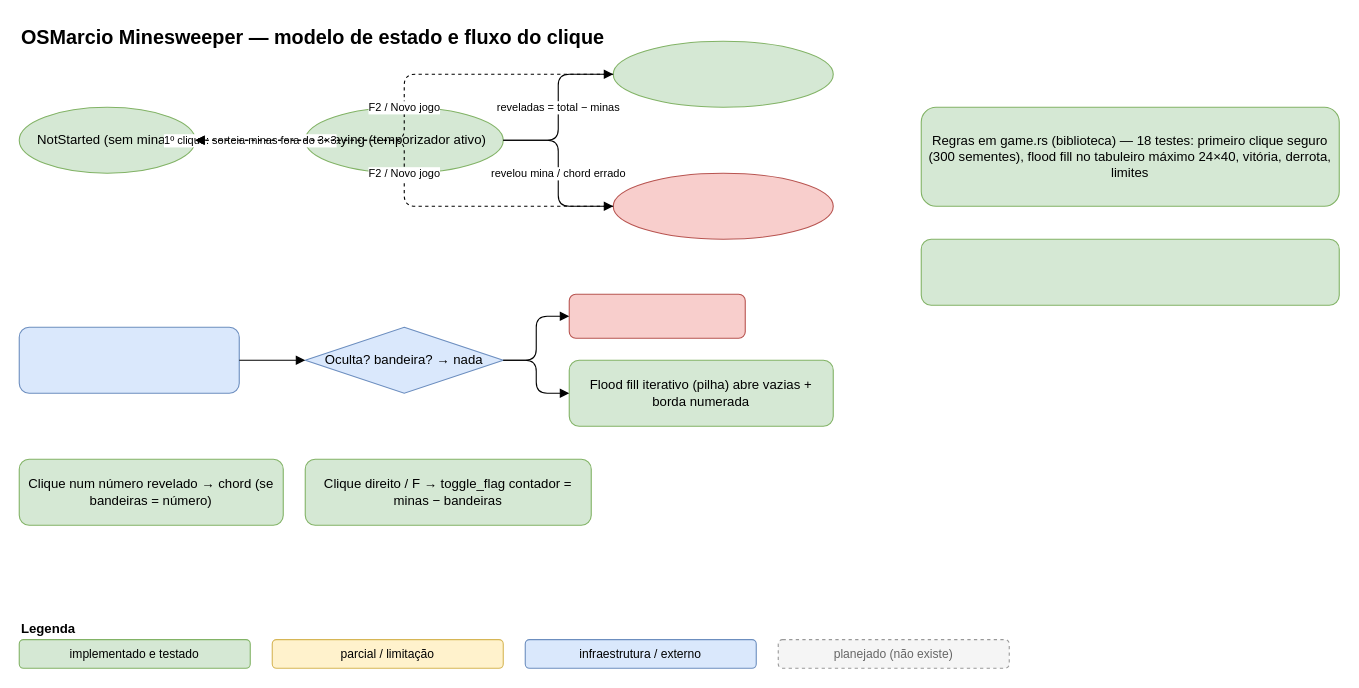
This 1359x688 diagram has some shape labels left out. The shapes that lost their labels are listed below. From the top down, each one's centre as x and y in pixels, then its label:
(x=722, y=73): Won (minas marcadas, recorde)
(x=722, y=205): Lost (minas reveladas)
(x=1129, y=271): Personalizado: 5–24 linhas, 5–40 colunas, 1 … linhas×colunas−9 minas
(x=656, y=315): Mina → Lost
(x=128, y=359): Clique esquerdo / Enter reveal(r,c)
